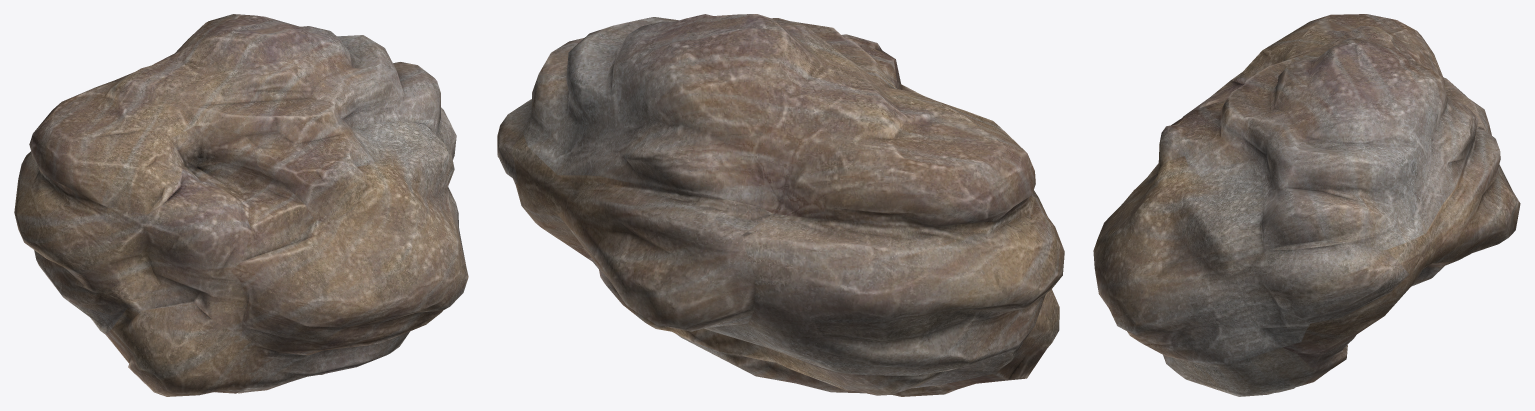
The model's file is rock_medium01_cave.dae.
3 views of the same model, side by side, from view 1: azimuth 30°, elevation 25°; view 2: azimuth 150°, elevation 25°; view 3: azimuth 270°, elevation 25° (orthographic). The views are drawn at different scales.
Visible parts, largest first — view 1: Mesh; view 2: Mesh; view 3: Mesh.
Boxes of the visible parts, x1,y1,x2,y2 form: Mesh: (14,14,468,396); Mesh: (497,14,1064,396); Mesh: (1093,14,1520,396).
Size of the model in its own units: 3.64 by 2.58 by 3.07.
